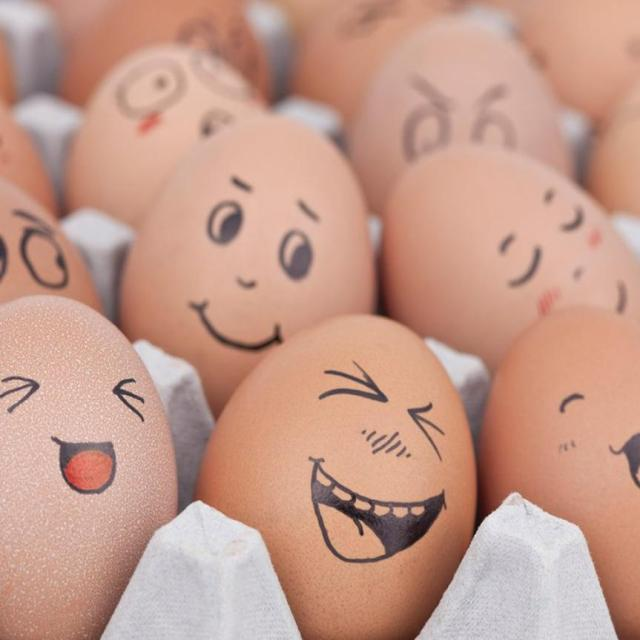Egg: (0, 0, 639, 639), (204, 310, 478, 640)
